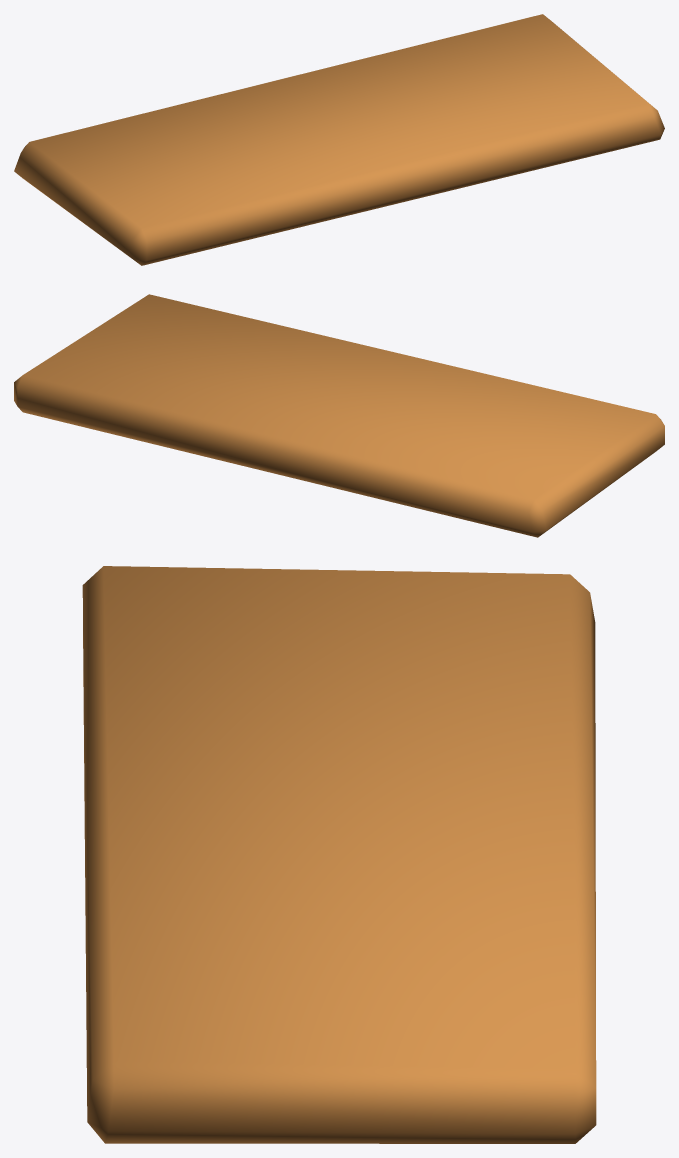
Rendered from slab_d_lo.glb.
3 views of the same model, one above another, from view 1: azimuth 30°, elevation 25°; view 2: azimuth 150°, elevation 25°; view 3: azimuth 270°, elevation 25° (orthographic). The views are drawn at different scales.
Visible parts, largest first — view 1: slab_d_lo; view 2: slab_d_lo; view 3: slab_d_lo.
Part boxes in pixels (left/top/right/bottom): slab_d_lo: left=14, top=14, right=664, bottom=265; slab_d_lo: left=14, top=294, right=664, bottom=537; slab_d_lo: left=82, top=566, right=596, bottom=1143.
Bounding box in the file's own units: 2.4 × 0.164 × 1.
